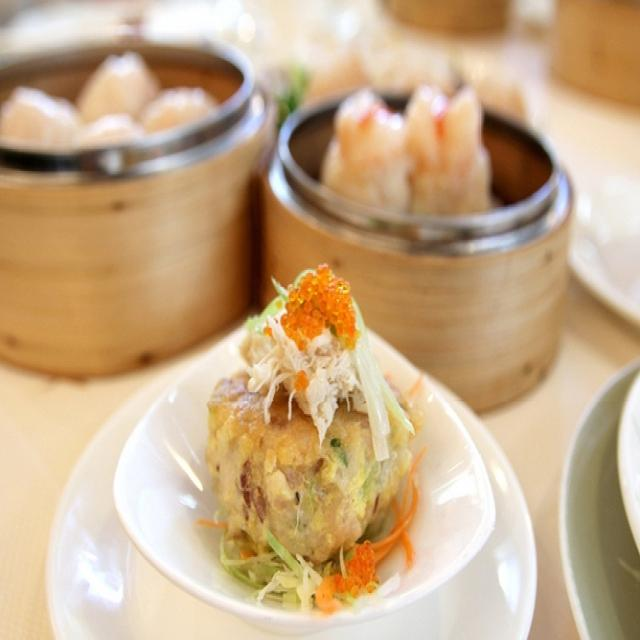炸货点心: (141, 196, 476, 623)
熟制海鲜: (141, 196, 476, 623)
